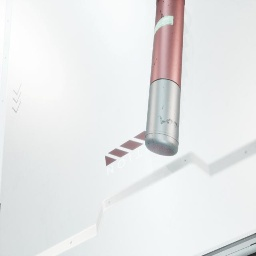NitrogenTank ,: (145, 0, 185, 156)
